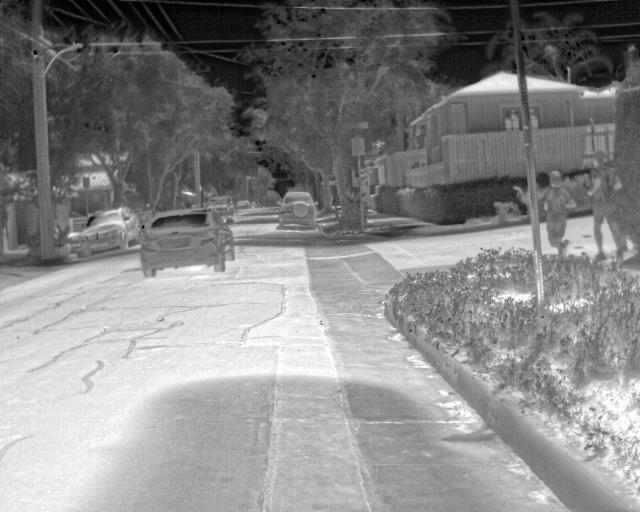bicycle: (140, 208, 234, 277), (80, 205, 141, 257), (274, 189, 319, 228), (204, 196, 236, 218), (233, 197, 253, 211)
empty: (585, 150, 628, 259), (542, 169, 577, 256)
